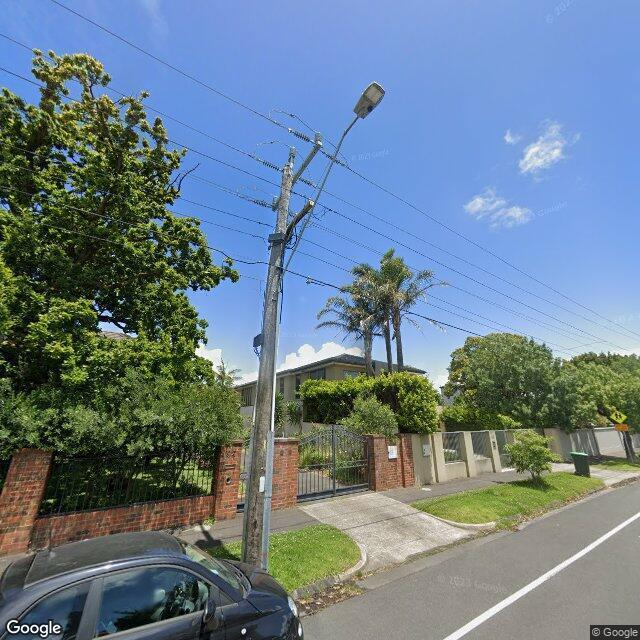HV-transmission: (234, 127, 347, 212)
crossarm: (272, 142, 322, 211), (285, 200, 315, 237)
streetlight: (277, 82, 386, 290)
timber-pole: (239, 166, 295, 573)
